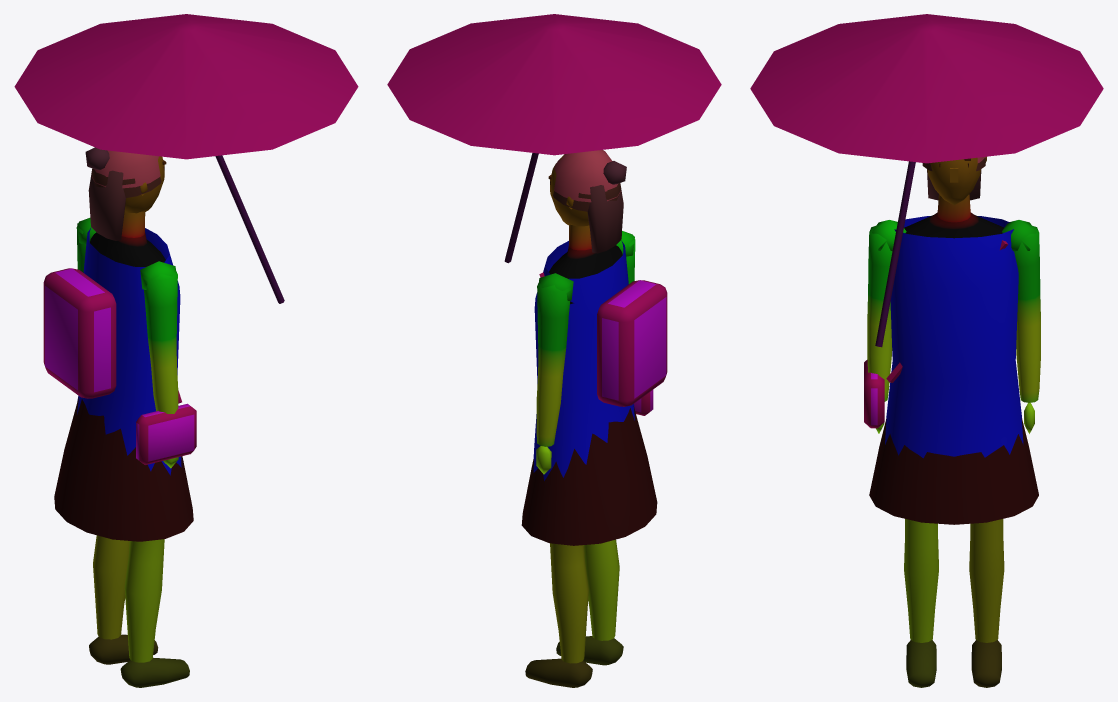
Rendered from person_dress.glb.
3 views of the same model, side by side, from view 1: azimuth 30°, elevation 25°; view 2: azimuth 150°, elevation 25°; view 3: azimuth 270°, elevation 25° (orthographic). The views are drawn at different scales.
Visible parts, largest first — view 1: person_dress; view 2: person_dress; view 3: person_dress.
Part boxes in pixels (box(x1,y1,x2,y2)): person_dress: box(14, 14, 358, 687); person_dress: box(387, 14, 721, 687); person_dress: box(750, 14, 1103, 687).
Size of the model in its own units: 1.04 by 2.16 by 1.04.
